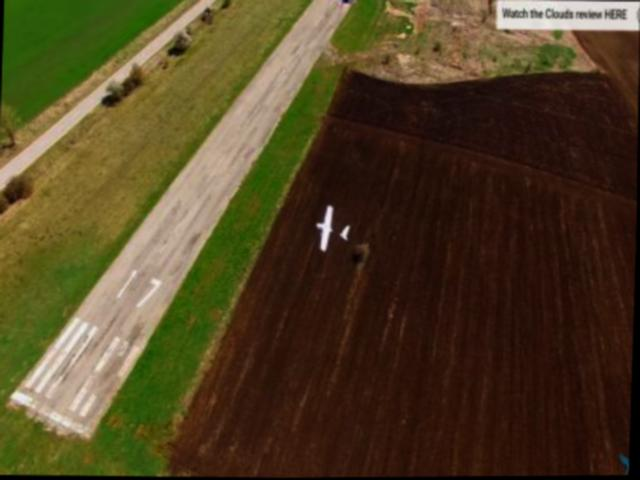uav: (306, 194, 358, 256)
